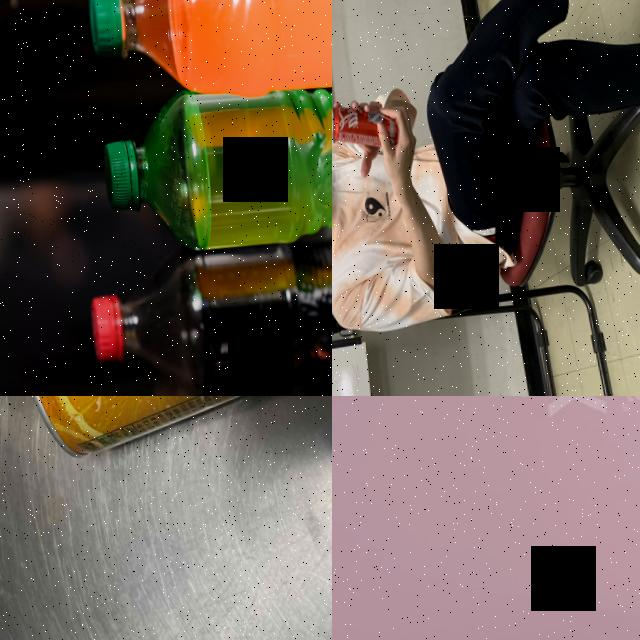bottle: (95, 63, 332, 259), (81, 225, 332, 396), (79, 0, 332, 113)
can: (0, 396, 332, 466), (332, 98, 400, 153)
